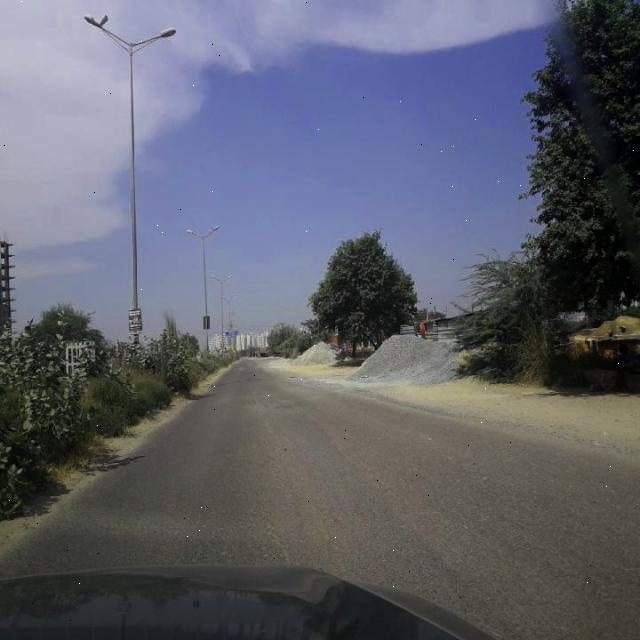D20: (122, 417, 640, 563)
